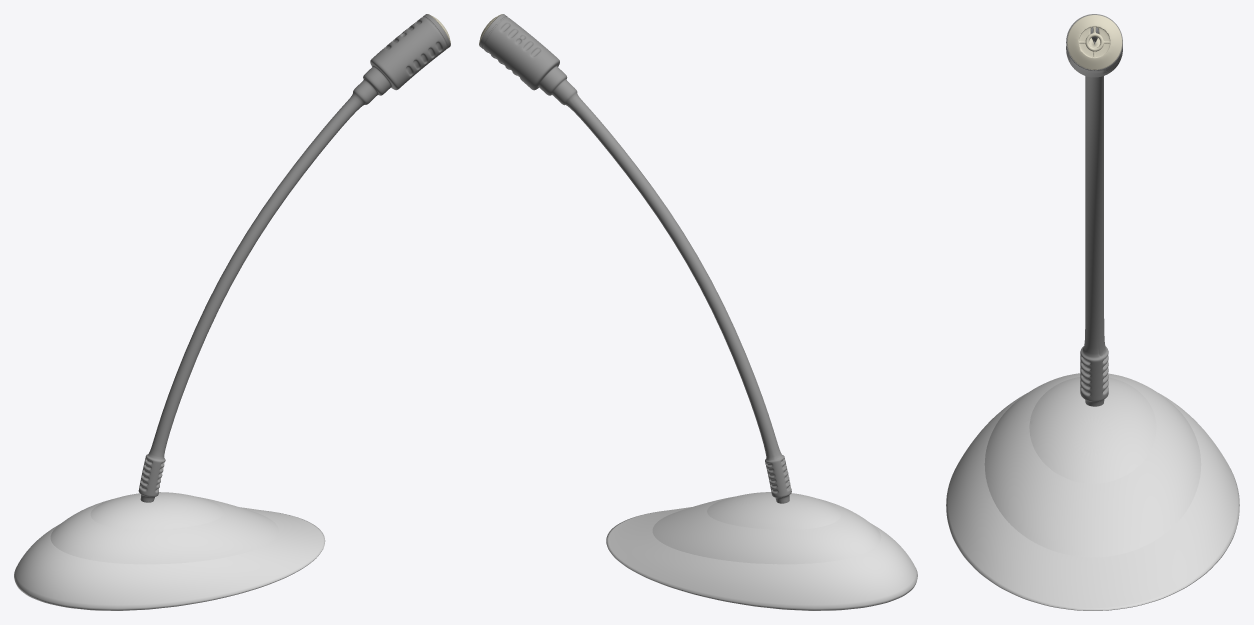
File: Microphone.FBX
3 renders of one model, left to right at view 1: azimuth 30°, elevation 25°; view 2: azimuth 150°, elevation 25°; view 3: azimuth 270°, elevation 25°, orthographic. The views are drawn at different scales.
Parts seen in each view (by area): view 1: Microphone; view 2: Microphone; view 3: Microphone.
Part boxes in pixels (x1,y1,x2,y2): Microphone: (14,14,450,610); Microphone: (479,14,917,610); Microphone: (946,14,1239,610).
Size of the model in its own units: 365 by 157 by 398.
